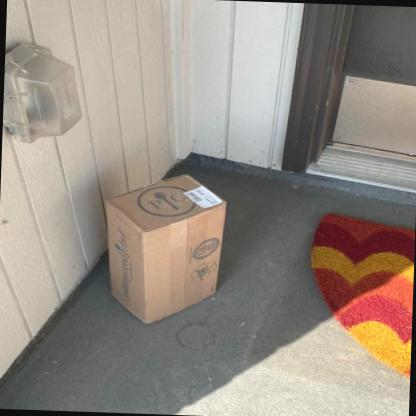box: (103, 172, 228, 325)
